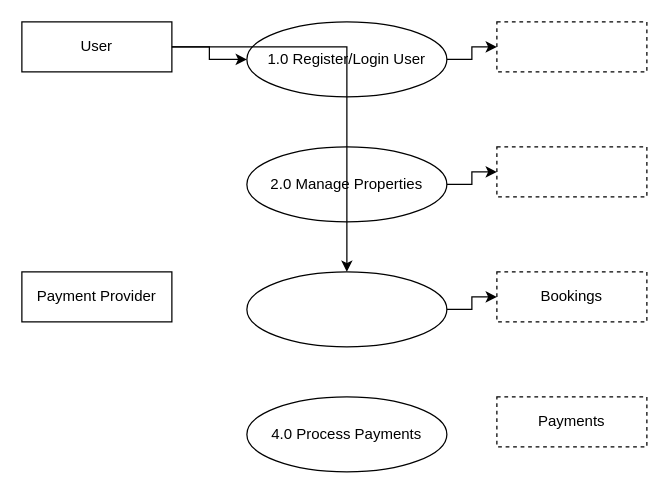
This 669x494 diagram has some shape labels left out. Each missing label, with the centre of its shape:
3.0 Make Booking: pixel 346 309
Property Listings: pixel 571 171
User Data: pixel 571 46
